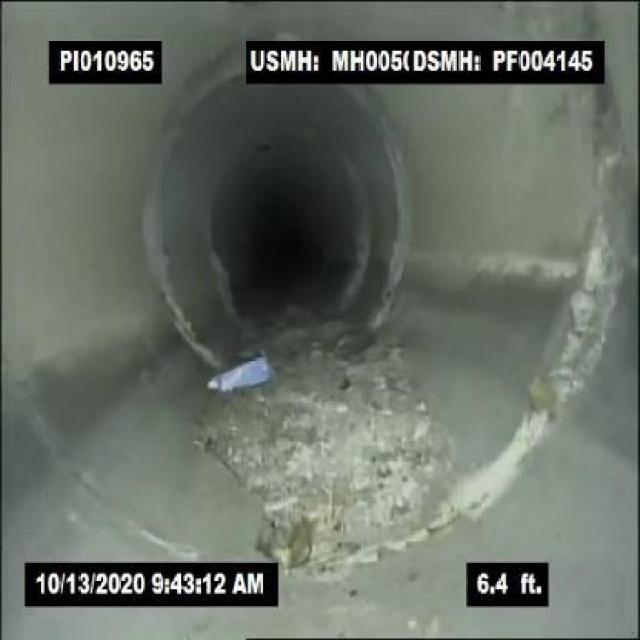Debris: (266, 446, 437, 556)
Joint offset: (140, 104, 198, 330), (369, 91, 418, 266)
